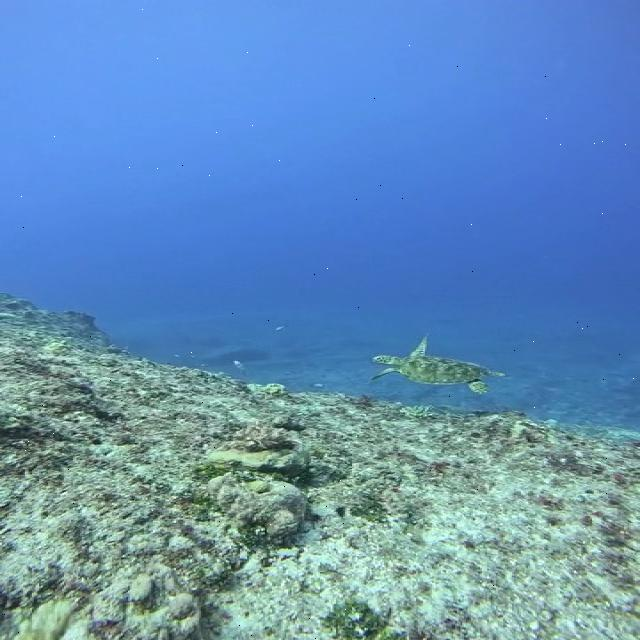turtle: (371, 335, 506, 394)
